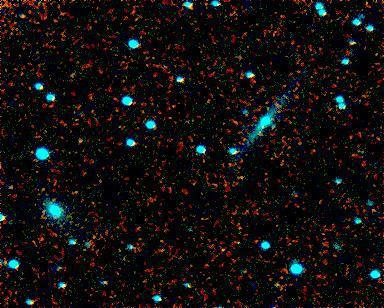star: (64, 124, 94, 154)
